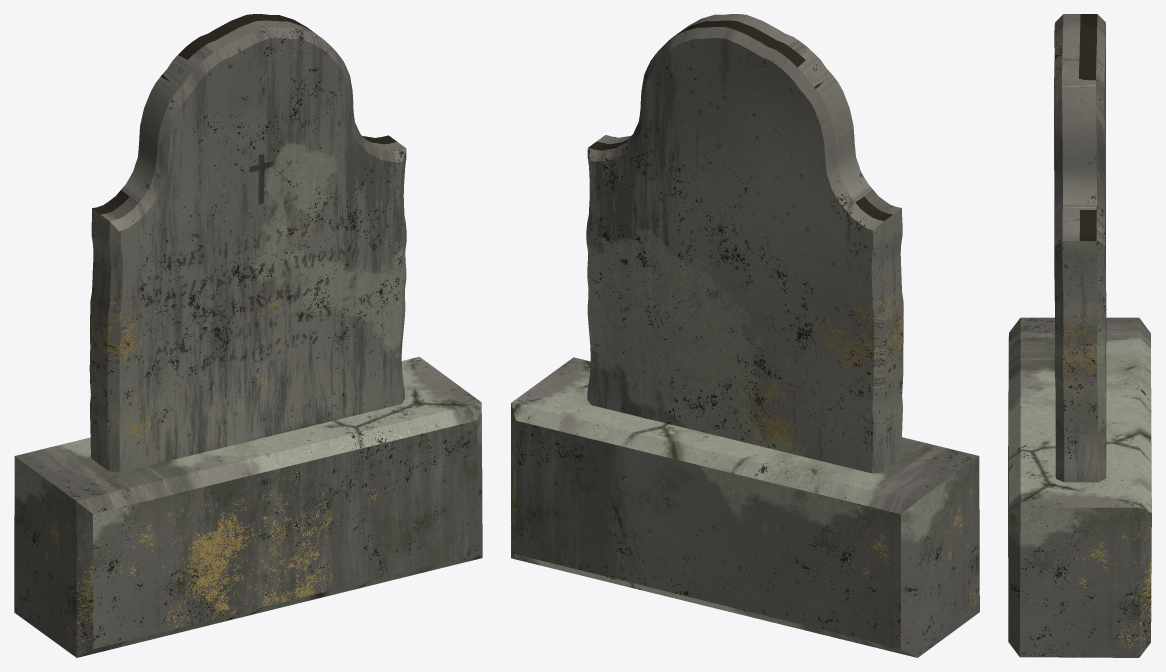
The model's file is Headstone_Ogee.gltf.
3 renders of one model, left to right at view 1: azimuth 30°, elevation 25°; view 2: azimuth 150°, elevation 25°; view 3: azimuth 270°, elevation 25°, orthographic. The views are drawn at different scales.
Parts seen in each view (by area): view 1: Headstone_Ogee; view 2: Headstone_Ogee; view 3: Headstone_Ogee.
Part boxes in pixels (<box>): Headstone_Ogee: <box>14,14,482,657</box>; Headstone_Ogee: <box>511,14,979,657</box>; Headstone_Ogee: <box>1008,14,1151,657</box>.
Size of the model in its own units: 0.98 by 1.3 by 0.3127.
Materials: 2 (2 with a texture image).
